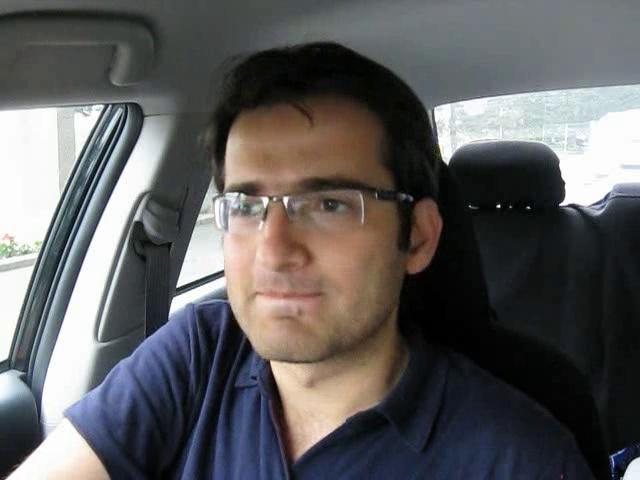no_yawn: (236, 275, 340, 325)
open_eyeL: (222, 188, 270, 224)
open_eyeR: (300, 187, 373, 227)
